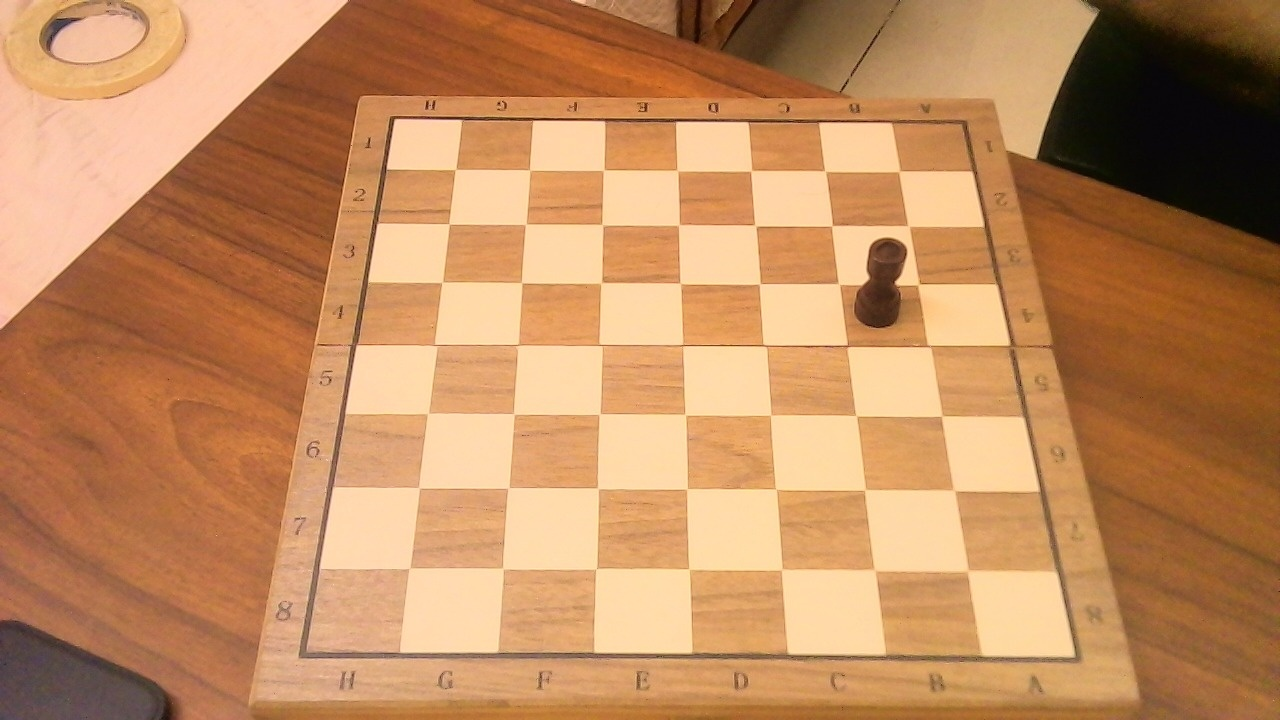r: (849, 224, 920, 330)
